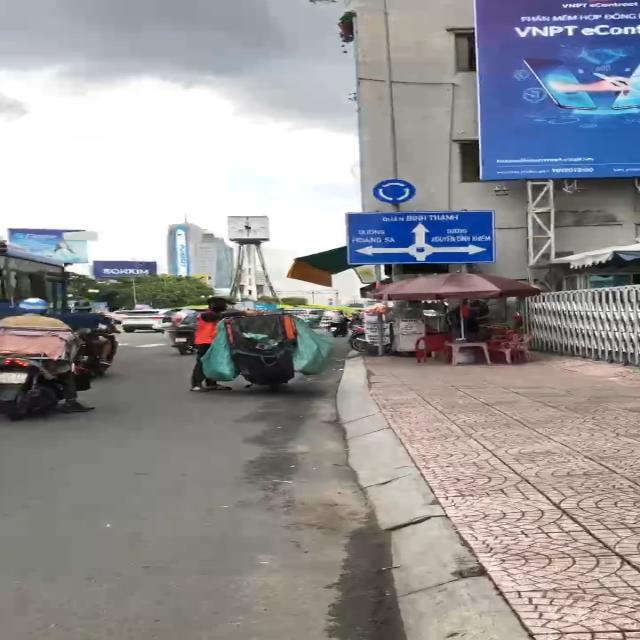Bien bao noi giao nhau chay theo vong xuyen: (369, 177, 420, 205)
